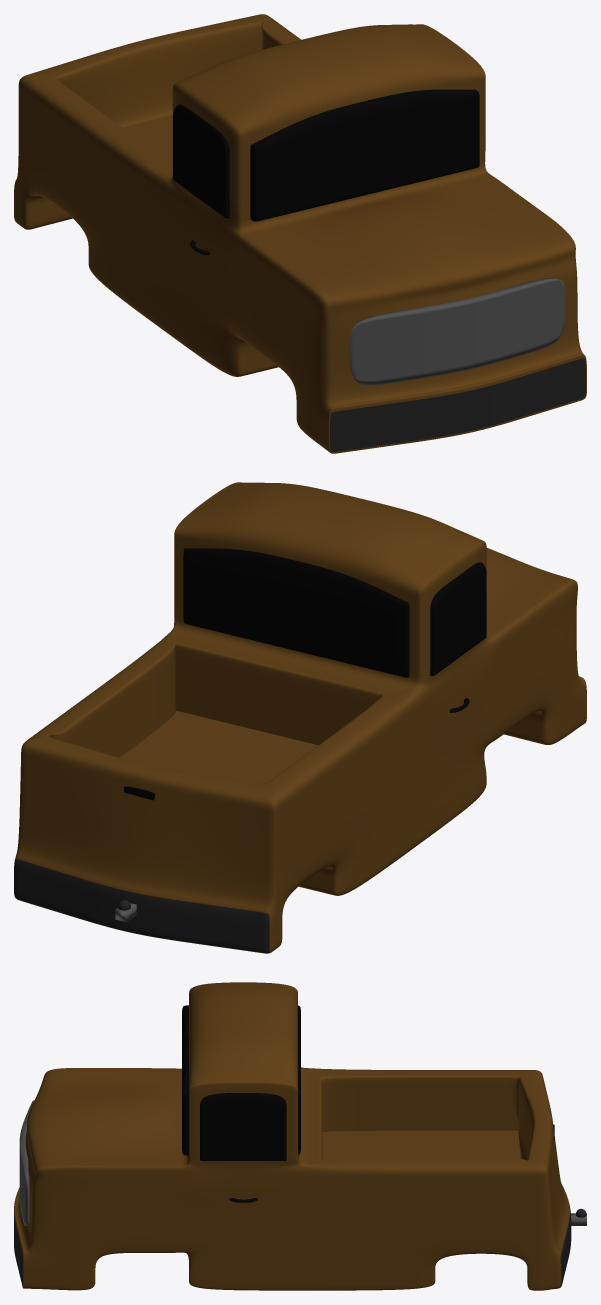
The model's file is Truck0.fbx.
3 renders of one model, top to bottom at view 1: azimuth 30°, elevation 25°; view 2: azimuth 150°, elevation 25°; view 3: azimuth 270°, elevation 25°, orthographic. The views are drawn at different scales.
Visible parts, largest first — view 1: Cube, Cube.001, Cube.005, Cube.003; view 2: Cube, Cube.004, Cube.003; view 3: Cube, Cube.002, Cube.001, Cube.005, Cube.004.
Boxes of the visible parts, left/top/right/bottom form: Cube: left=14, top=14, right=586, bottom=453; Cube.001: left=250, top=89, right=479, bottom=221; Cube.005: left=349, top=278, right=565, bottom=385; Cube.003: left=173, top=104, right=230, bottom=218; Cube: left=14, top=482, right=586, bottom=953; Cube.004: left=183, top=548, right=409, bottom=677; Cube.003: left=430, top=562, right=486, bottom=676; Cube: left=14, top=982, right=571, bottom=1290; Cube.002: left=200, top=1093, right=286, bottom=1160; Cube.001: left=182, top=1005, right=189, bottom=1155; Cube.005: left=19, top=1100, right=34, bottom=1226; Cube.004: left=298, top=1005, right=300, bottom=1154.
Size of the model in its own units: 522 by 519 by 1196.
